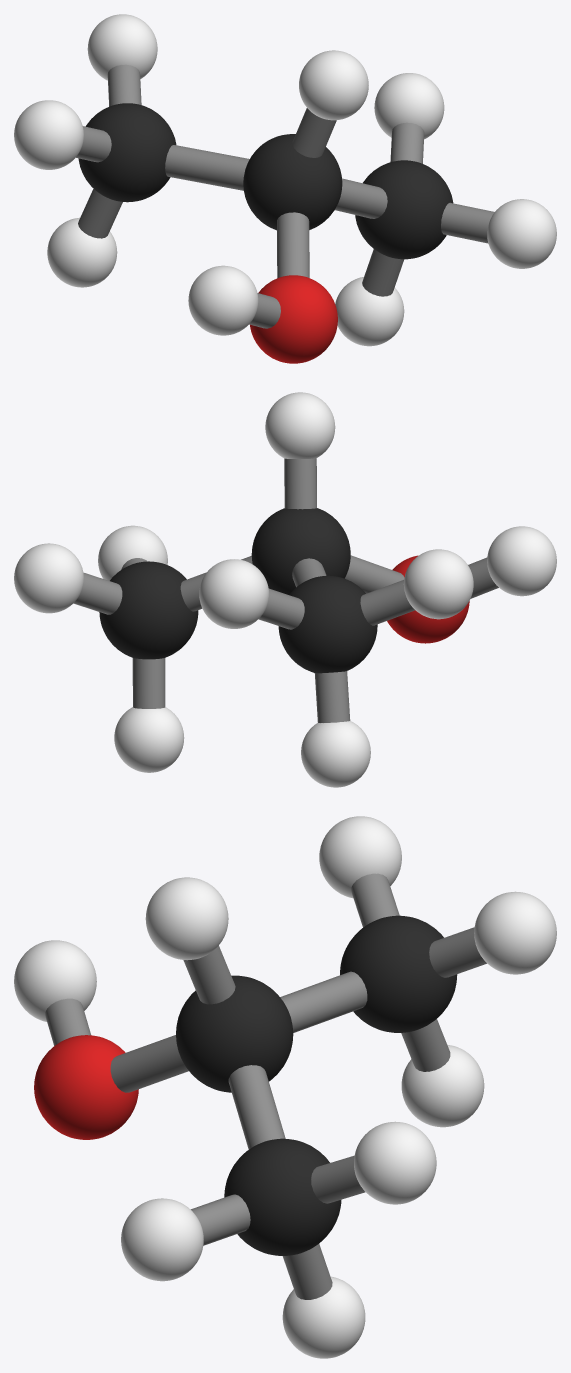
Rendered from propan-2-ol.glb.
The picture shows the model from 3 angles, top to bottom: view 1: azimuth 30°, elevation 25°; view 2: azimuth 150°, elevation 25°; view 3: azimuth 270°, elevation 25°; orthographic projection. The views are drawn at different scales.
Parts seen in each view (by area): view 1: C_1, C_0, C_3, O_2, H_8, H_7, H_6, H_10, H_11, H_5, H_9, H_4 (+11 smaller); view 2: C_0, C_3, C_1, H_4, H_8, H_9, H_10, H_7, H_11, H_5, H_6, O_2 (+10 smaller); view 3: C_3, C_1, C_0, O_2, H_6, H_7, H_9, H_4, H_5, H_8, H_10, H_11 (+11 smaller).
Boxes of the visible parts, box(x1,y1,x2,y2) form: C_1: box(243, 134, 342, 230); C_0: box(355, 160, 453, 259); C_3: box(78, 103, 176, 202); O_2: box(250, 275, 337, 363); H_8: box(188, 265, 258, 335); H_7: box(299, 50, 368, 120); H_6: box(487, 199, 556, 268); H_10: box(14, 100, 83, 169); H_11: box(47, 217, 117, 287); H_5: box(335, 277, 404, 346); H_9: box(87, 14, 157, 80); H_4: box(374, 73, 444, 139); C_0: box(99, 561, 198, 659); C_3: box(278, 575, 377, 673); C_1: box(251, 508, 350, 594); H_4: box(14, 543, 83, 613); H_8: box(487, 526, 556, 596); H_9: box(199, 559, 268, 628); H_10: box(403, 549, 473, 619); H_7: box(265, 392, 335, 459); H_11: box(301, 721, 370, 787); H_5: box(114, 707, 184, 772); H_6: box(98, 525, 167, 580); O_2: box(387, 555, 469, 643); C_3: box(340, 915, 457, 1032); C_1: box(176, 975, 293, 1092); C_0: box(224, 1138, 341, 1255); O_2: box(34, 1035, 138, 1139); H_6: box(121, 1198, 203, 1281); H_7: box(145, 877, 228, 960); H_9: box(474, 891, 556, 974); H_4: box(354, 1121, 436, 1204); H_5: box(282, 1276, 365, 1358); H_8: box(14, 940, 96, 1021); H_10: box(319, 816, 401, 898); H_11: box(401, 1045, 484, 1127).
Size of the model in its own units: 4.46 by 3.35 by 3.93.
